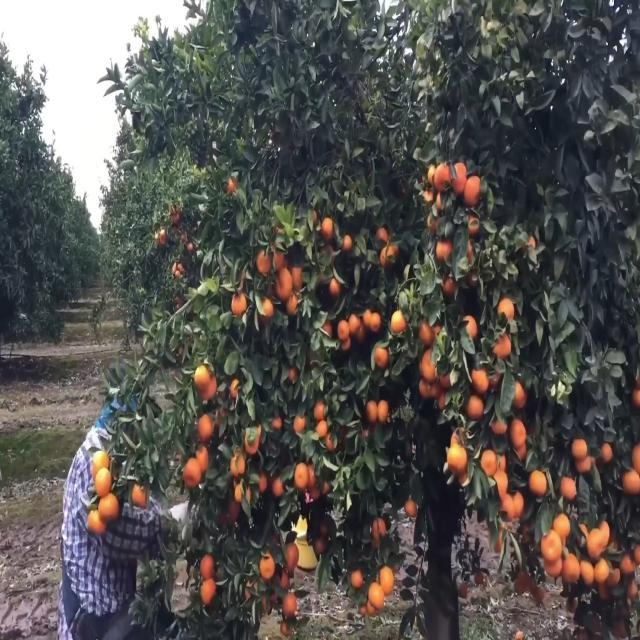Jeruk Sudah Matang: (191, 362, 217, 400), (540, 525, 563, 562), (274, 264, 294, 306), (463, 389, 489, 420), (461, 172, 484, 206), (230, 285, 248, 327), (560, 550, 582, 584), (180, 457, 203, 489), (388, 302, 411, 334), (90, 447, 110, 483), (447, 442, 469, 474), (98, 489, 119, 522), (368, 576, 388, 610), (86, 506, 107, 538), (619, 464, 640, 496), (450, 161, 468, 197), (528, 464, 548, 496), (433, 161, 453, 193), (551, 512, 572, 542), (510, 414, 528, 449), (190, 442, 210, 473), (570, 435, 592, 463), (560, 472, 578, 506), (292, 460, 312, 490), (257, 550, 277, 580), (470, 366, 490, 396), (93, 466, 111, 499), (378, 564, 396, 597), (198, 575, 218, 604), (280, 592, 300, 620), (198, 550, 215, 582), (198, 412, 215, 442), (481, 443, 496, 477), (285, 538, 299, 574), (378, 244, 398, 269), (588, 526, 604, 557), (257, 297, 275, 324), (373, 342, 391, 369), (336, 314, 352, 344), (256, 246, 270, 278), (328, 270, 342, 302), (580, 556, 596, 584), (320, 216, 336, 243), (347, 308, 362, 336), (376, 394, 389, 426), (500, 491, 512, 524), (366, 396, 378, 425), (369, 312, 382, 332), (341, 233, 353, 253)
